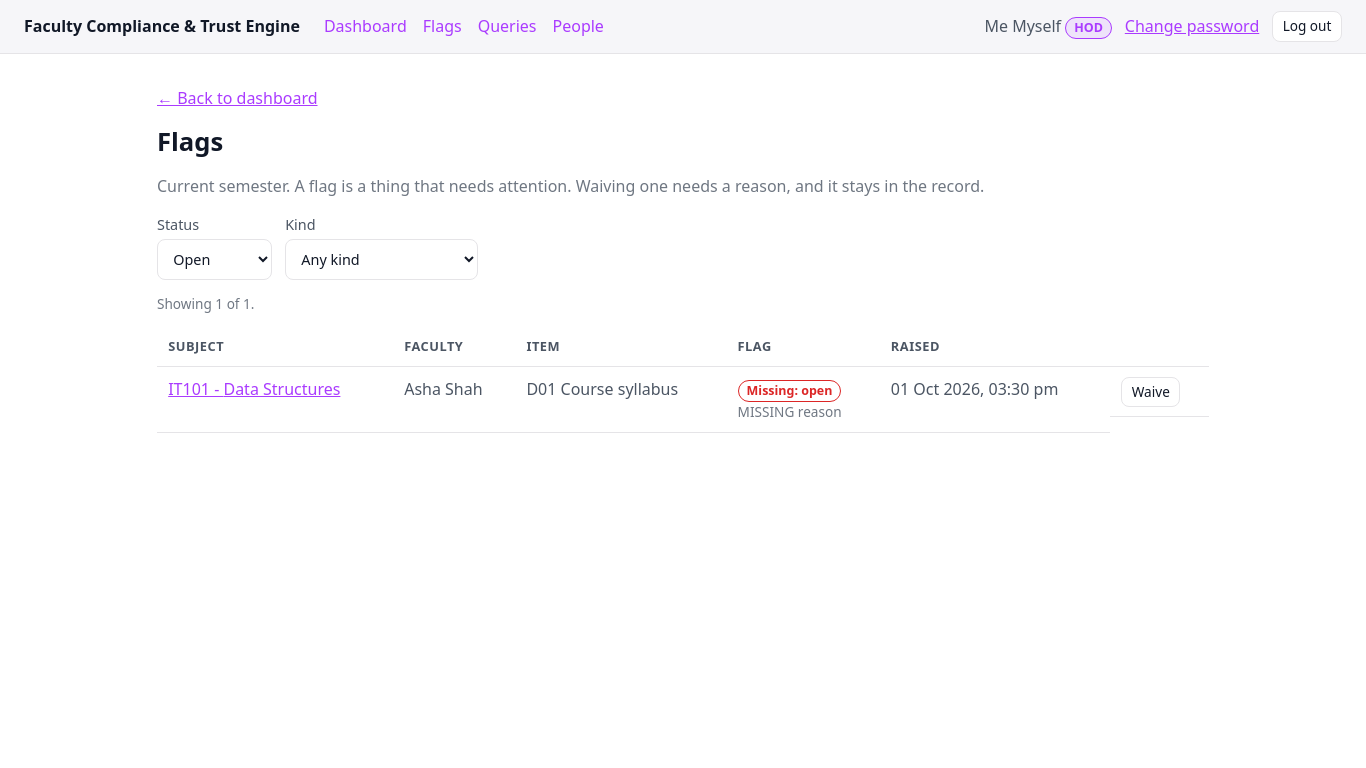
Scenario: flags page › shows the real reason when the server refuses
Step 1. Click the button "Waive" → (1151, 392), box left=1121, top=376, right=1180, bottom=407
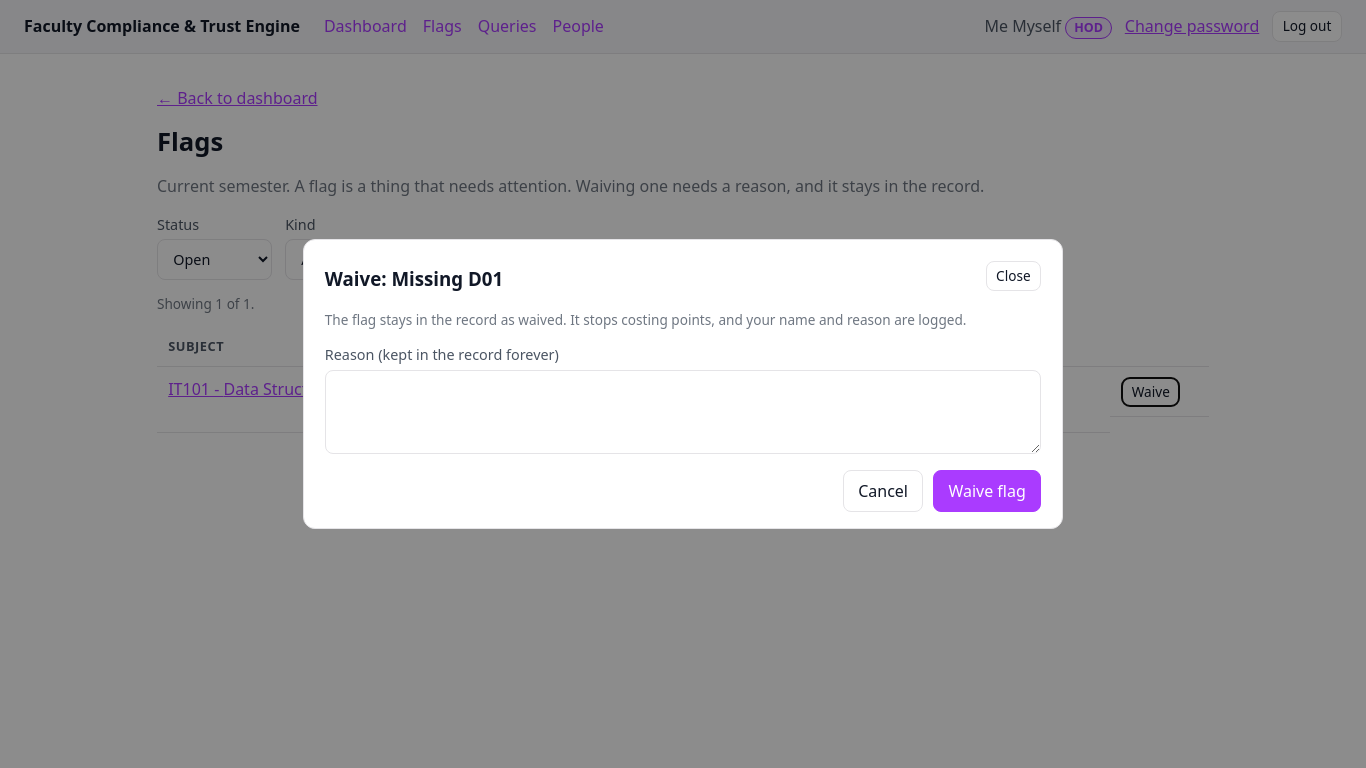
Step 2. Type "A long enough reason" into the text box labelled "Reason (kept in the record forever)" → (683, 412), box left=325, top=370, right=1041, bottom=454
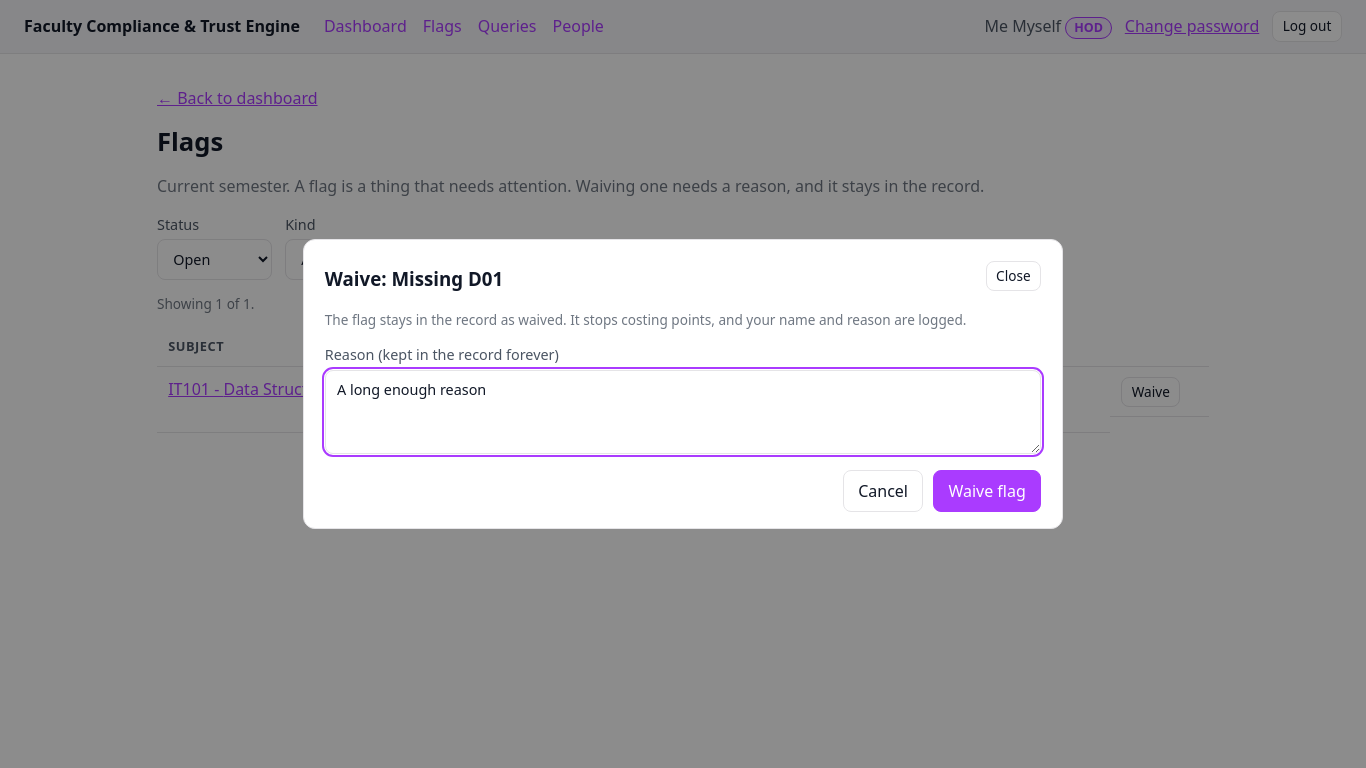
Step 3. Click the button "Waive flag" → (987, 491), box left=933, top=470, right=1041, bottom=512
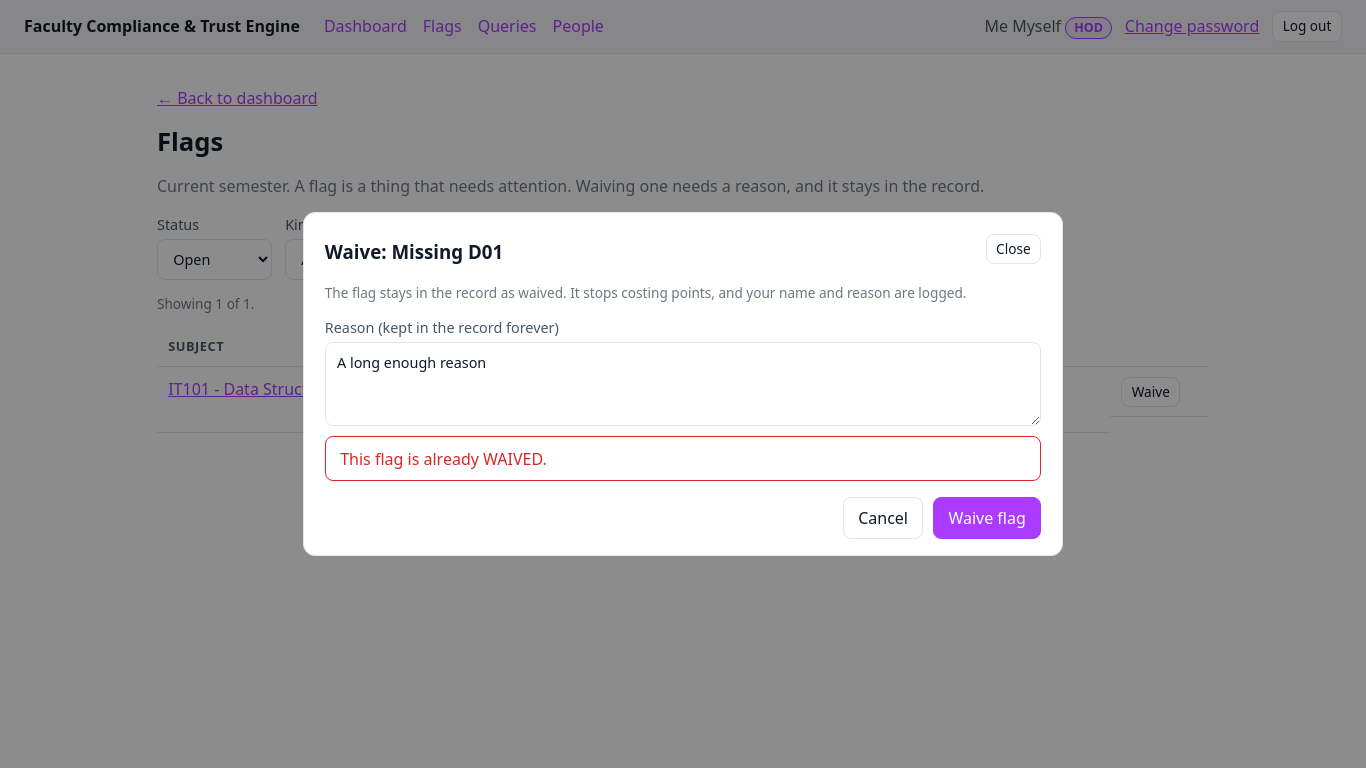
Result: the text "This flag is already WAIVED." is shown at left=325, top=436, right=1041, bottom=481
